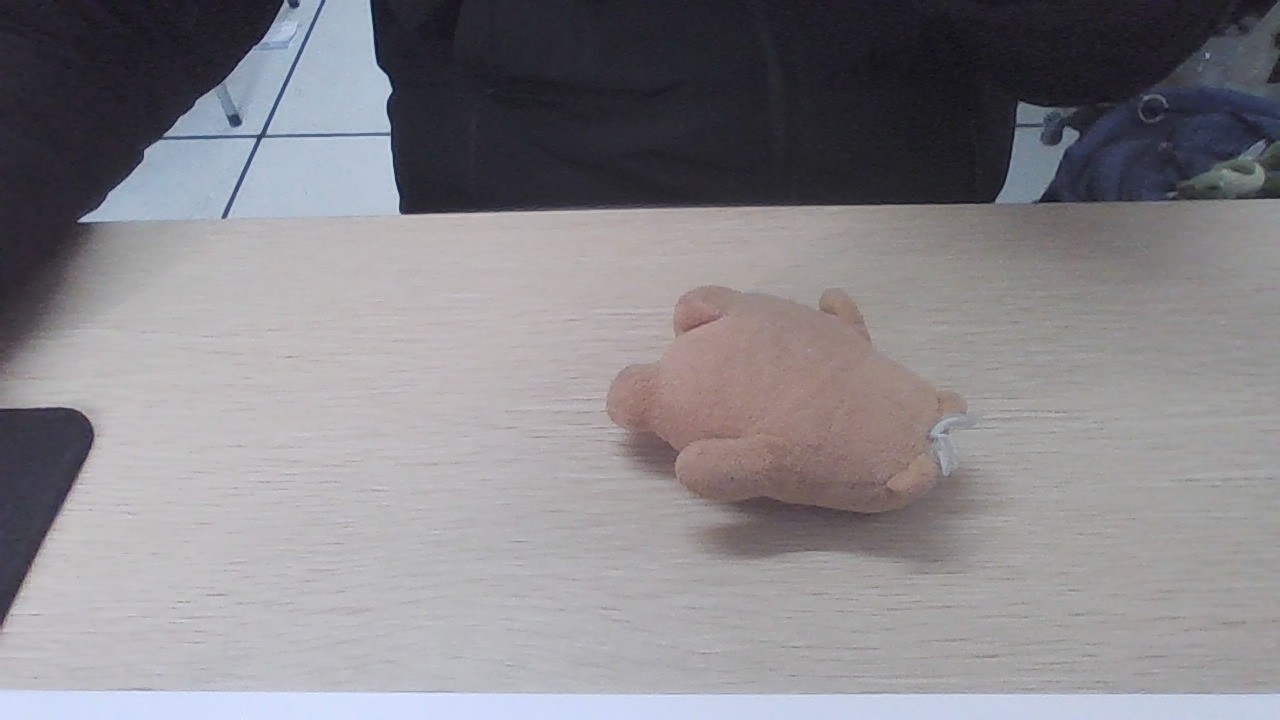KHS-doll: (617, 286, 944, 513)
